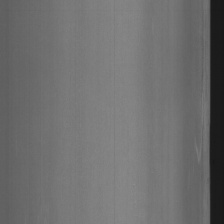silk_spot: (188, 84, 207, 172)
